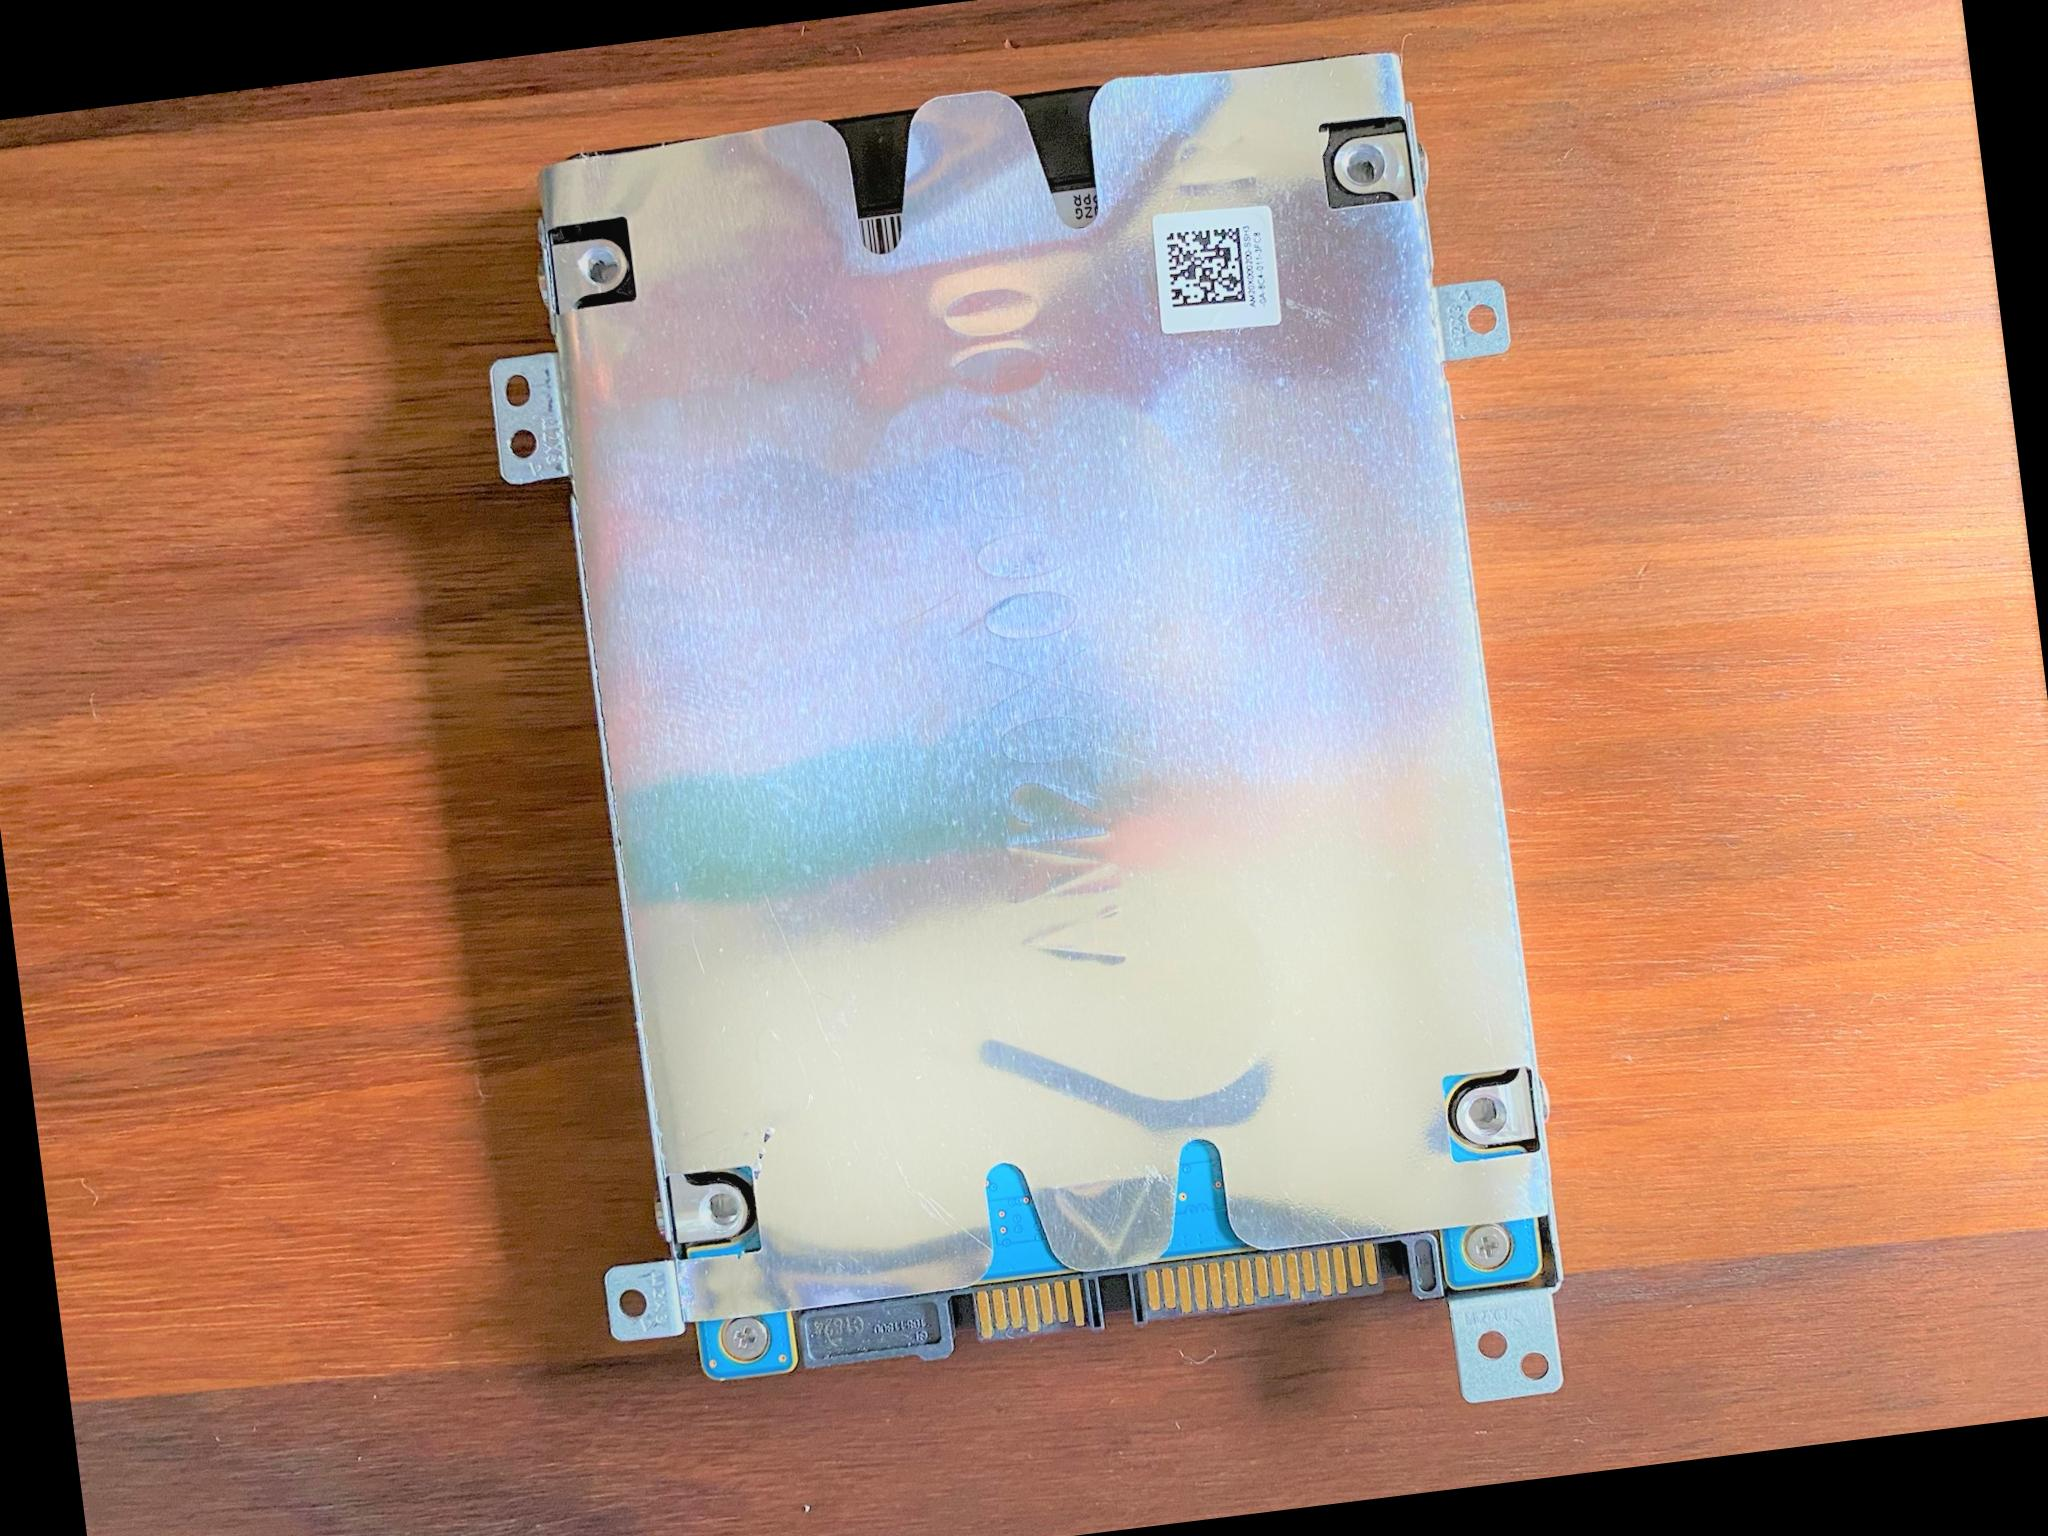PH: (716, 1315, 771, 1368), (1463, 1220, 1513, 1271)
